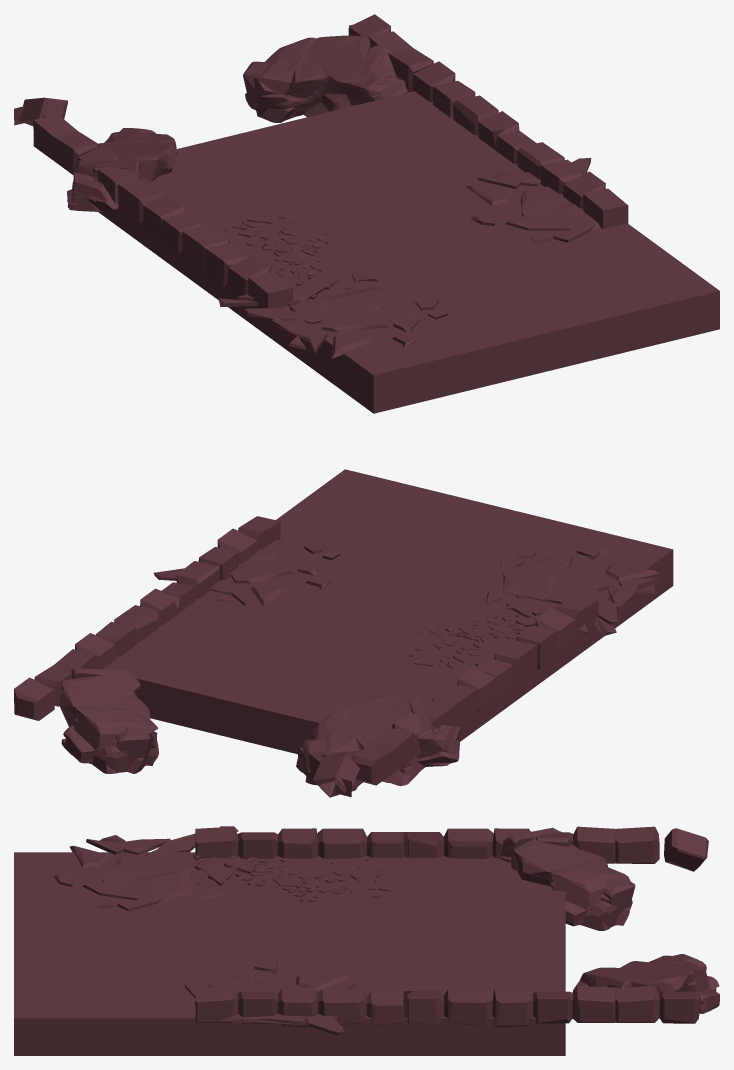
Rendered from SM_Bridge_Underground.fbx.
The picture shows the model from 3 angles, top to bottom: view 1: azimuth 30°, elevation 25°; view 2: azimuth 150°, elevation 25°; view 3: azimuth 270°, elevation 25°; orthographic projection. The views are drawn at different scales.
Parts seen in each view (by area): view 1: bridge-underground; view 2: bridge-underground; view 3: bridge-underground.
Part boxes in pixels (x1=…): bridge-underground: x1=14, y1=14, x2=719, y2=413; bridge-underground: x1=14, y1=469, x2=673, y2=797; bridge-underground: x1=14, y1=826, x2=719, y2=1055.
Bounding box in the file's own units: 15.11 × 3.83 × 17.
